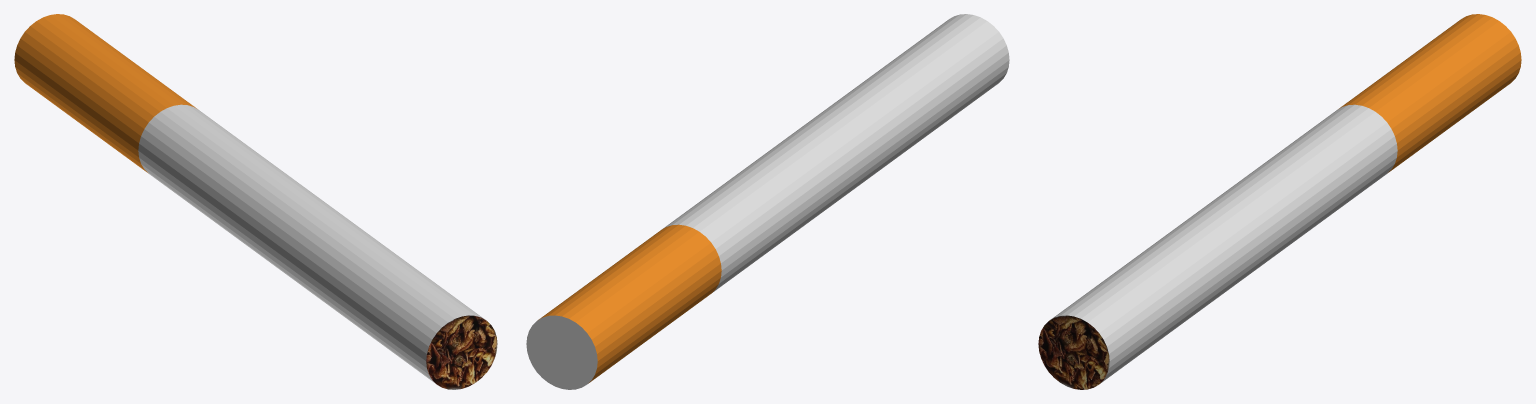
Rendered from Zigarette.fbx.
3 renders of one model, left to right at view 1: azimuth 30°, elevation 25°; view 2: azimuth 150°, elevation 25°; view 3: azimuth 330°, elevation 25°, orthographic.
Parts seen in each view (by area): view 1: Ziggi; view 2: Ziggi; view 3: Ziggi.
Part boxes in pixels (x1,y1,x2,y2): Ziggi: (14, 14, 497, 389); Ziggi: (526, 14, 1009, 389); Ziggi: (1038, 14, 1521, 389).
Size of the model in its own units: 19.99 by 19.43 by 200.
